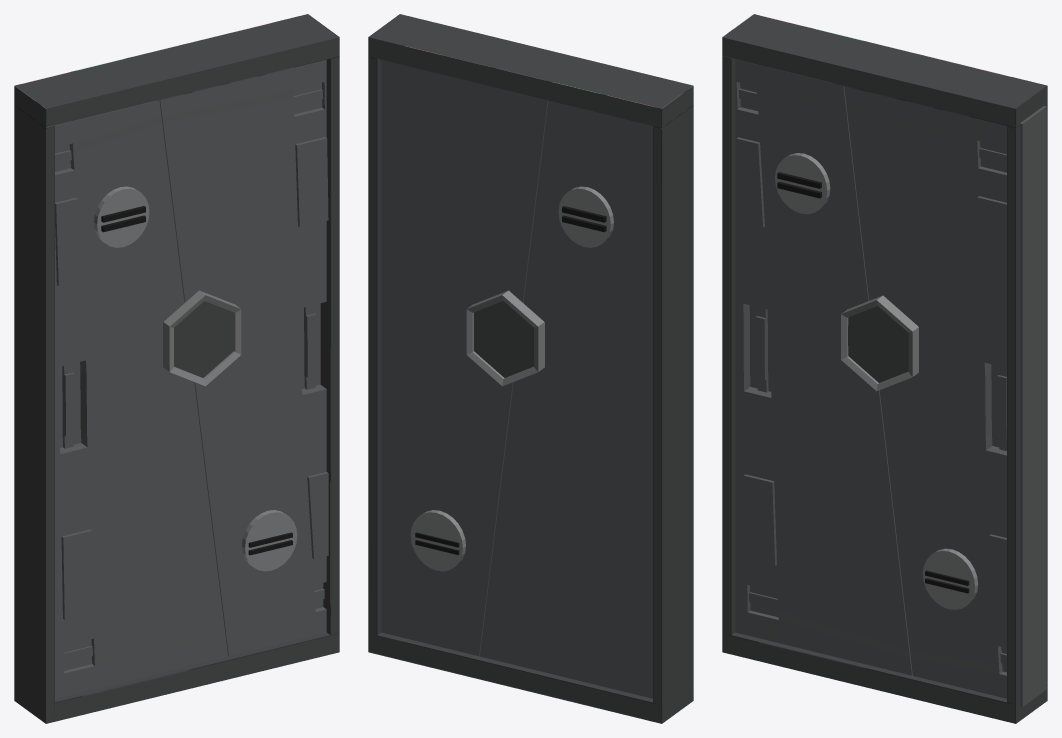
Rendered from door.obj.
3 renders of one model, left to right at view 1: azimuth 30°, elevation 25°; view 2: azimuth 150°, elevation 25°; view 3: azimuth 330°, elevation 25°, orthographic.
Visible parts, largest first — view 1: partl, partr, tour; view 2: partr, partl, tour; view 3: partr, partl, tour.
Boxes of the visible parts, x1=… form: partl: x1=55, y1=100, x2=228, y2=698; partr: x1=159, y1=59, x2=330, y2=656; tour: x1=14, y1=14, x2=339, y2=723; partr: x1=377, y1=59, x2=548, y2=656; partl: x1=479, y1=100, x2=661, y2=698; tour: x1=368, y1=14, x2=693, y2=723; partr: x1=841, y1=86, x2=1046, y2=706; partl: x1=735, y1=60, x2=912, y2=675; tour: x1=722, y1=14, x2=1047, y2=723.
Bounding box in the file's own units: 1.01 × 2 × 0.2176.
Materials: 1 (1 with a texture image).
